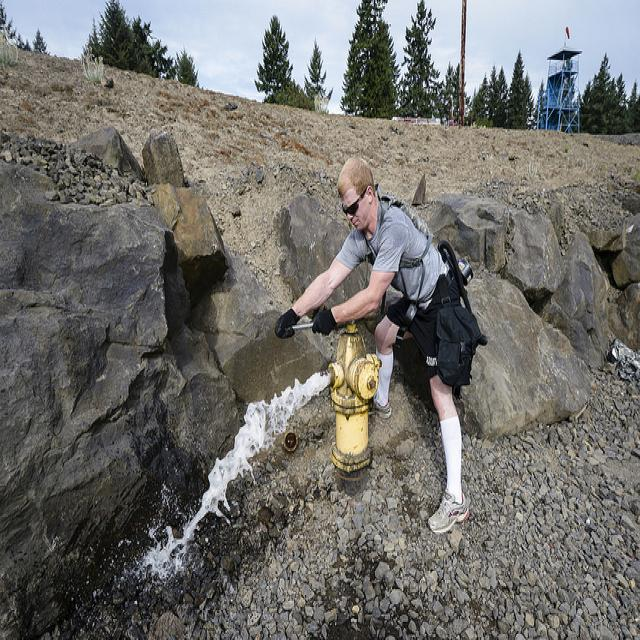fire_hydrant: (328, 325, 383, 490)
